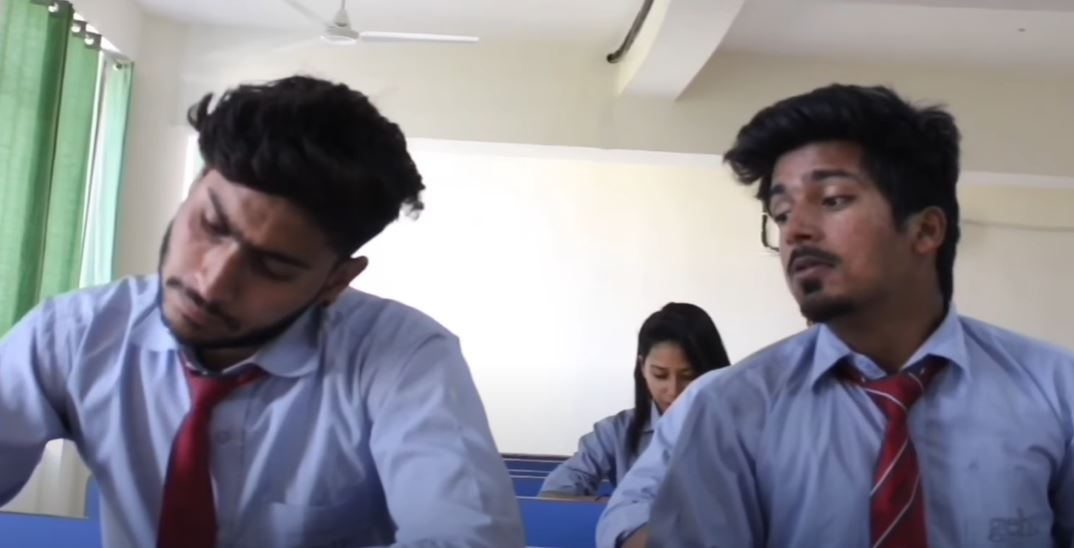student: (52, 103, 463, 548), (717, 127, 1074, 523), (596, 314, 760, 469)
